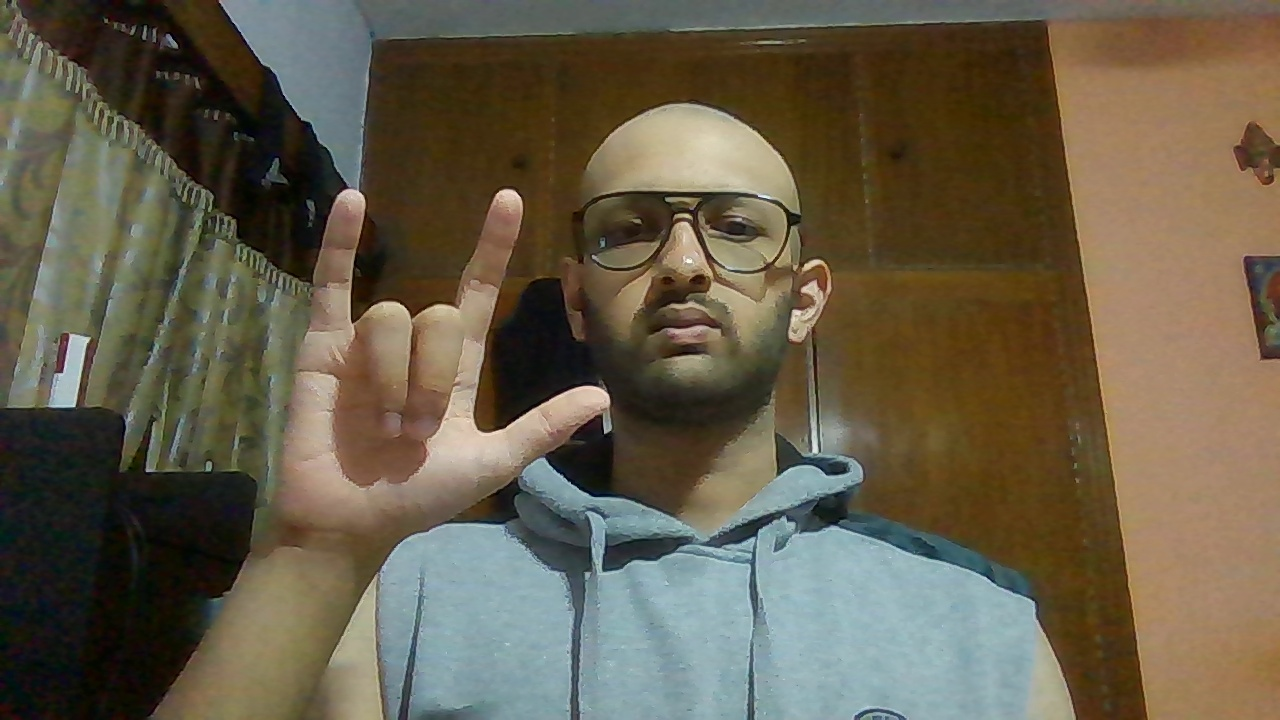I Love You: (272, 187, 614, 545)
